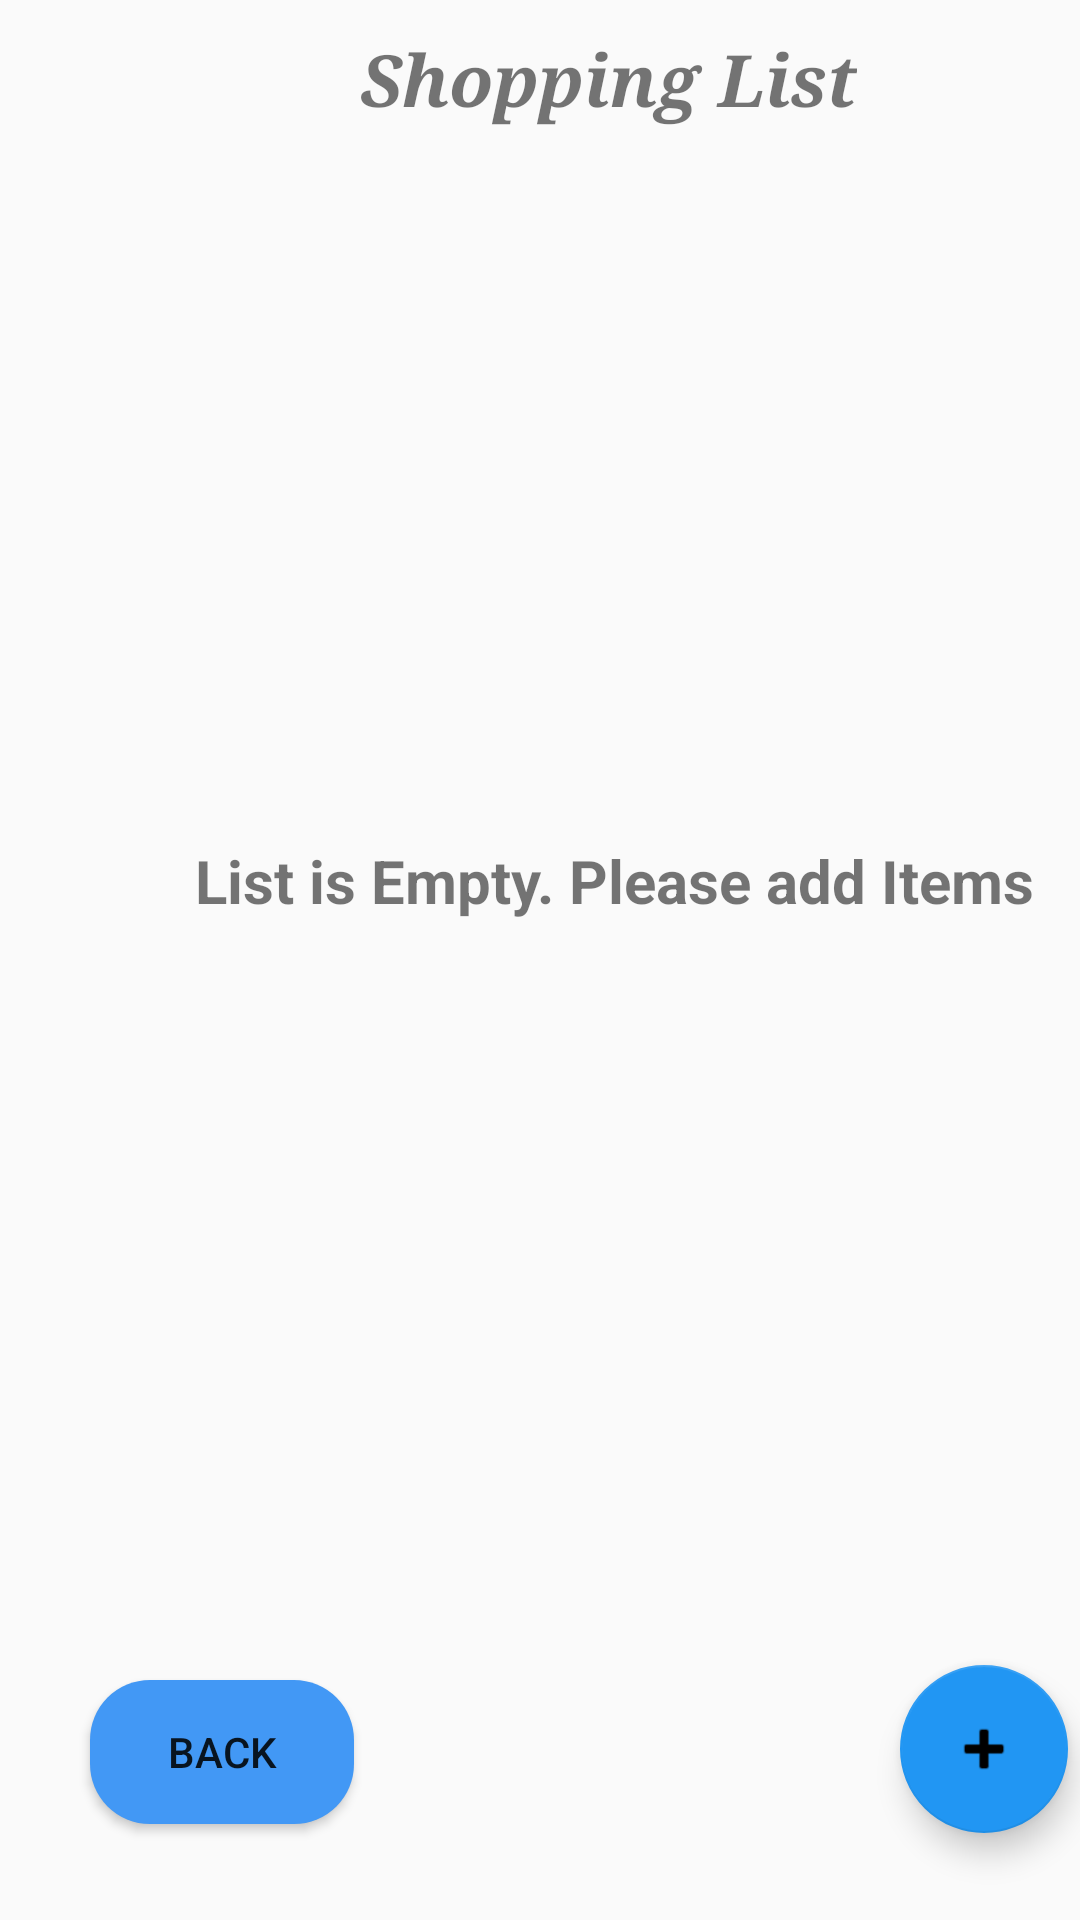

Icons on this 1080×1920 Android screen, each with its box as bbox(x1, y1, x2, y2):
add: bbox(900, 1665, 1068, 1833)
